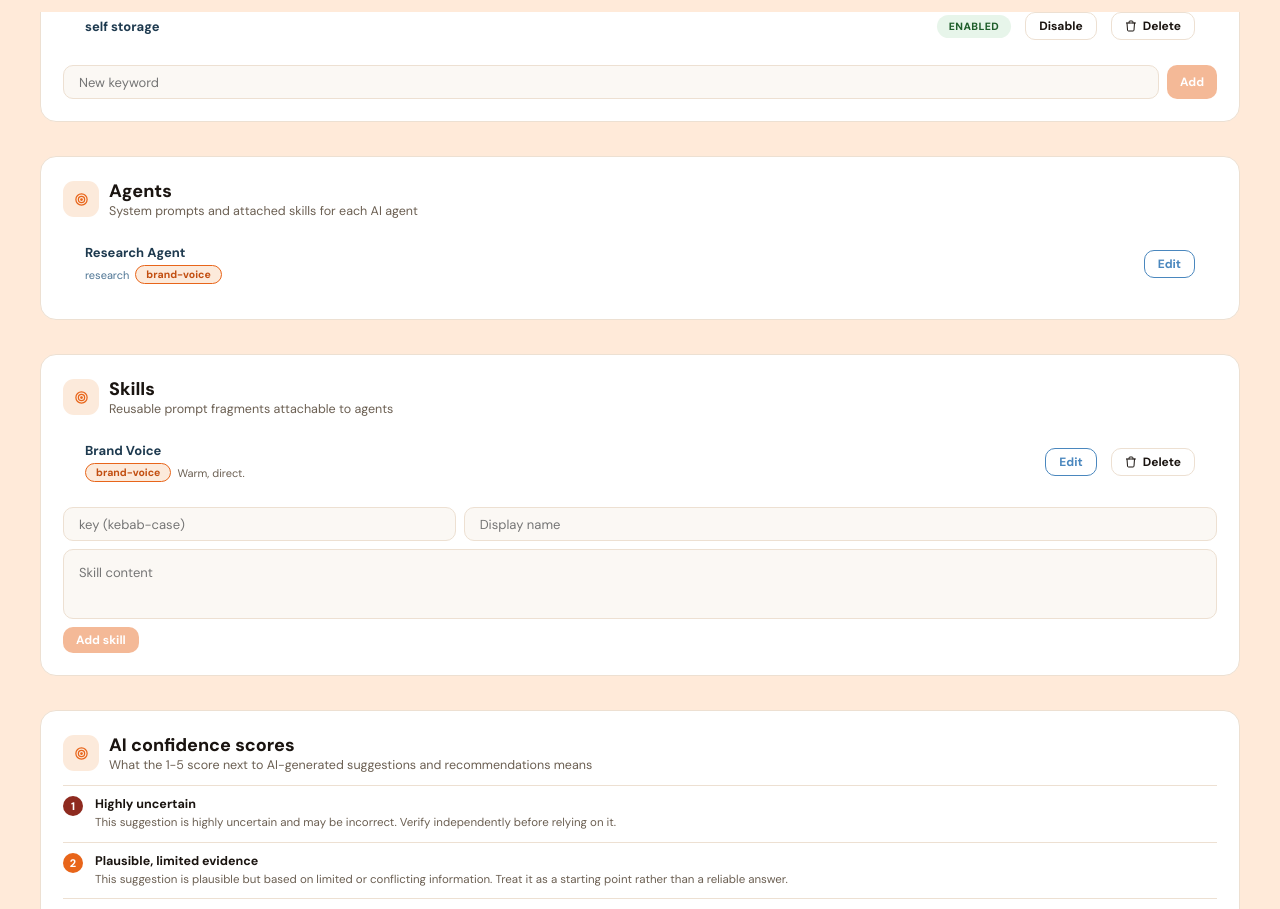
skill delete surfaces detached agents in one toast
Click the button "Delete" in the row of "Warm, direct.".
click(1153, 462)  # box [1111, 448, 1195, 476]
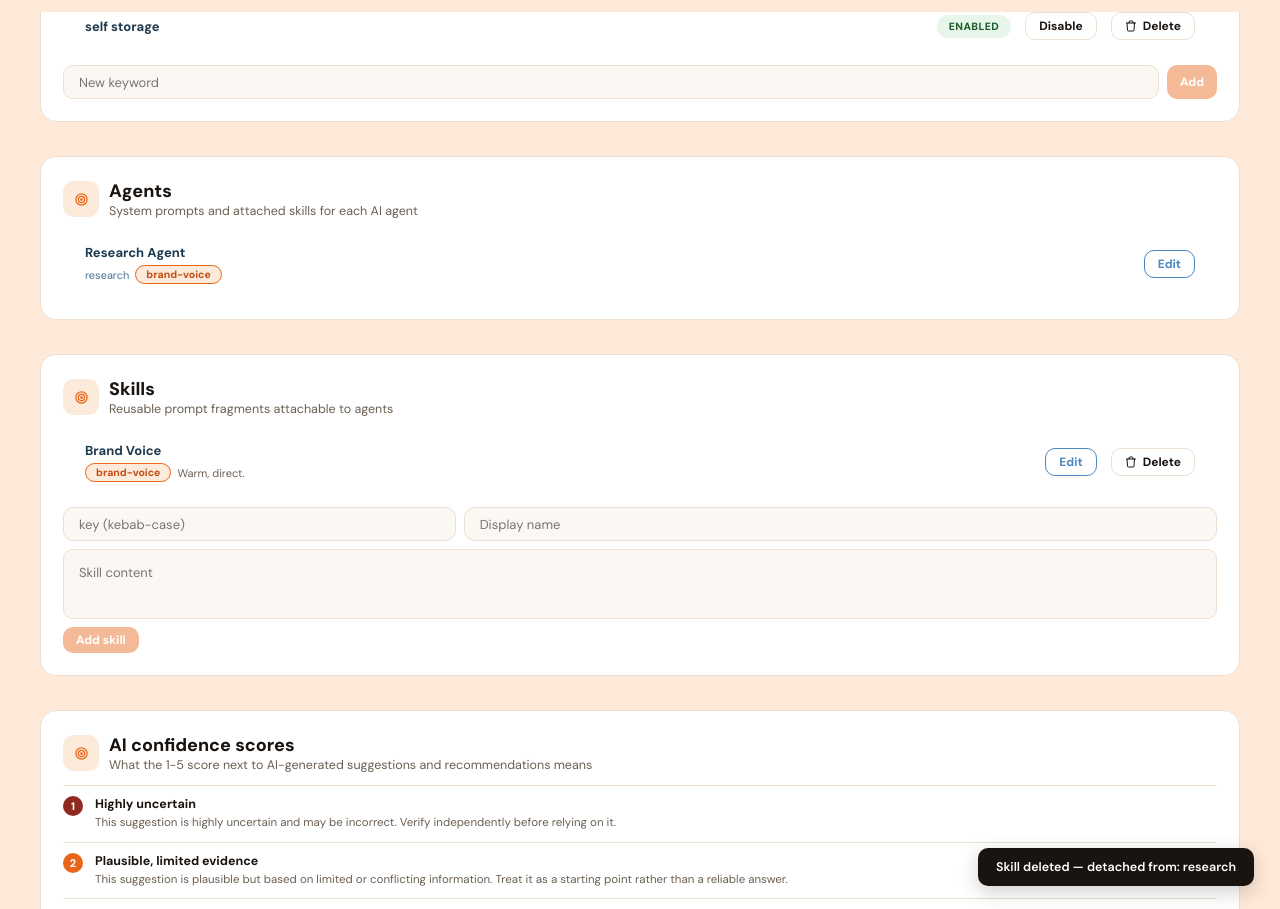
Check: the text "Skill deleted — detached from: research" is shown, box [978, 848, 1254, 886]
